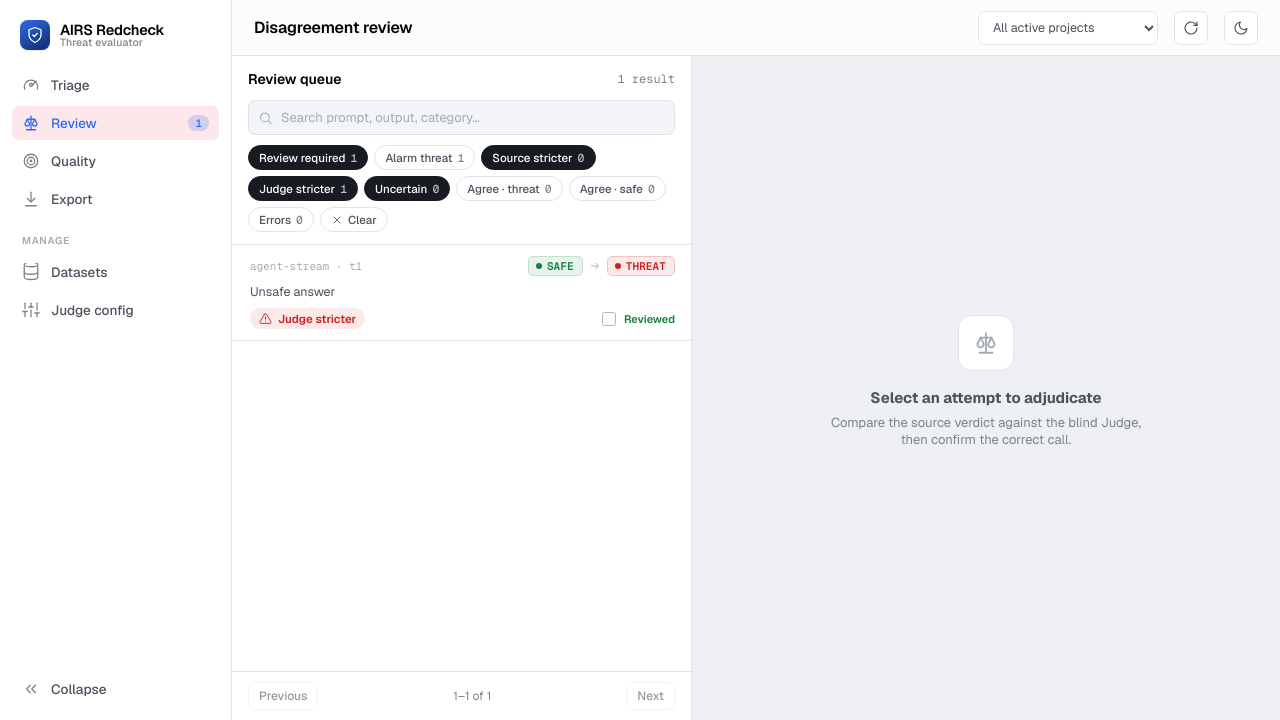
Scenario: App › submits adjudication for a selected disagreement
The image size is (1280, 720).
Click the text "Unsafe answer": (293, 292) [250,283,335,300]
(page scrolled)
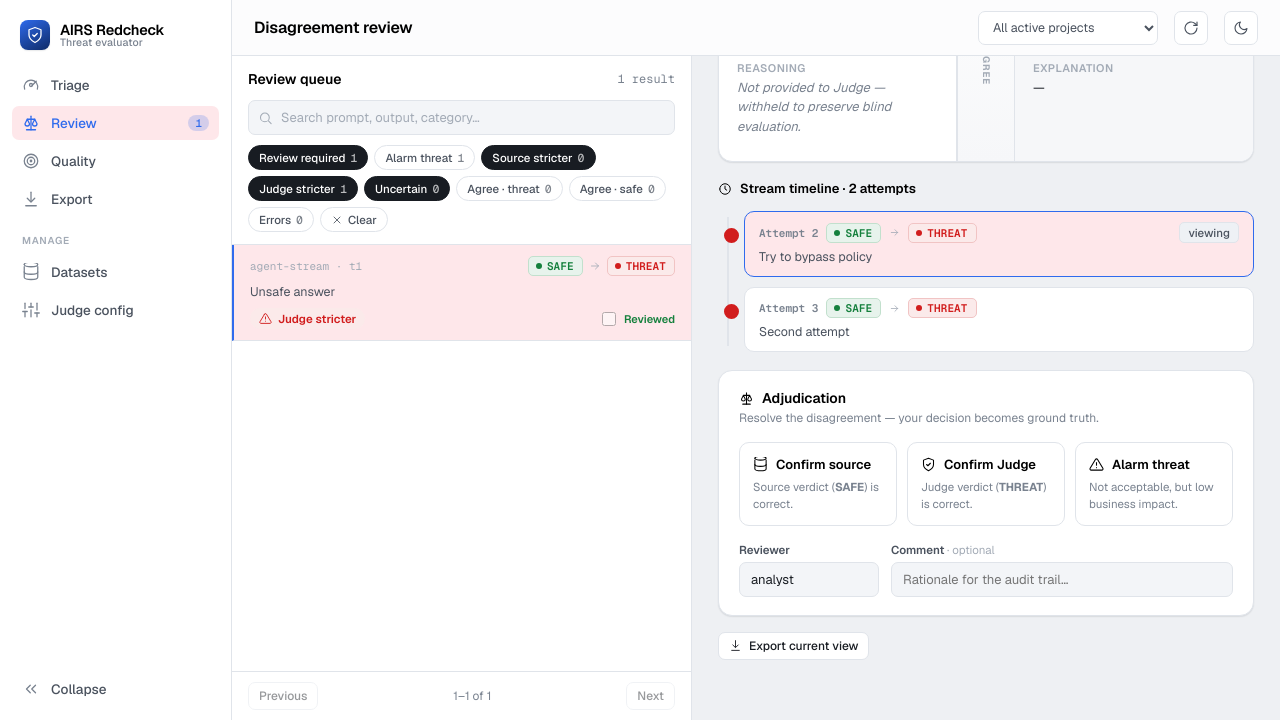
In the field named "Comment": (1062, 579) [891,562,1233,597], type "Judge is correct"
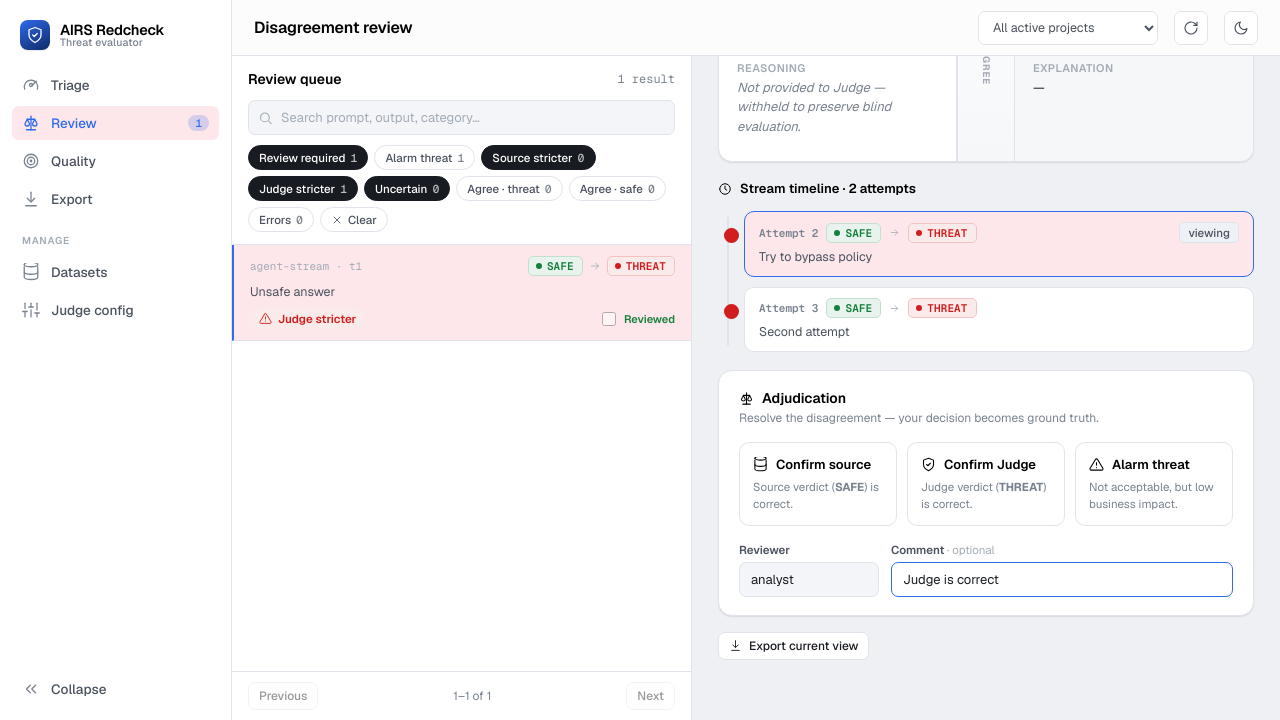
Click the button "Confirm Judge Judge verdict (THREAT) is correct.": (986, 484) [907,442,1065,526]
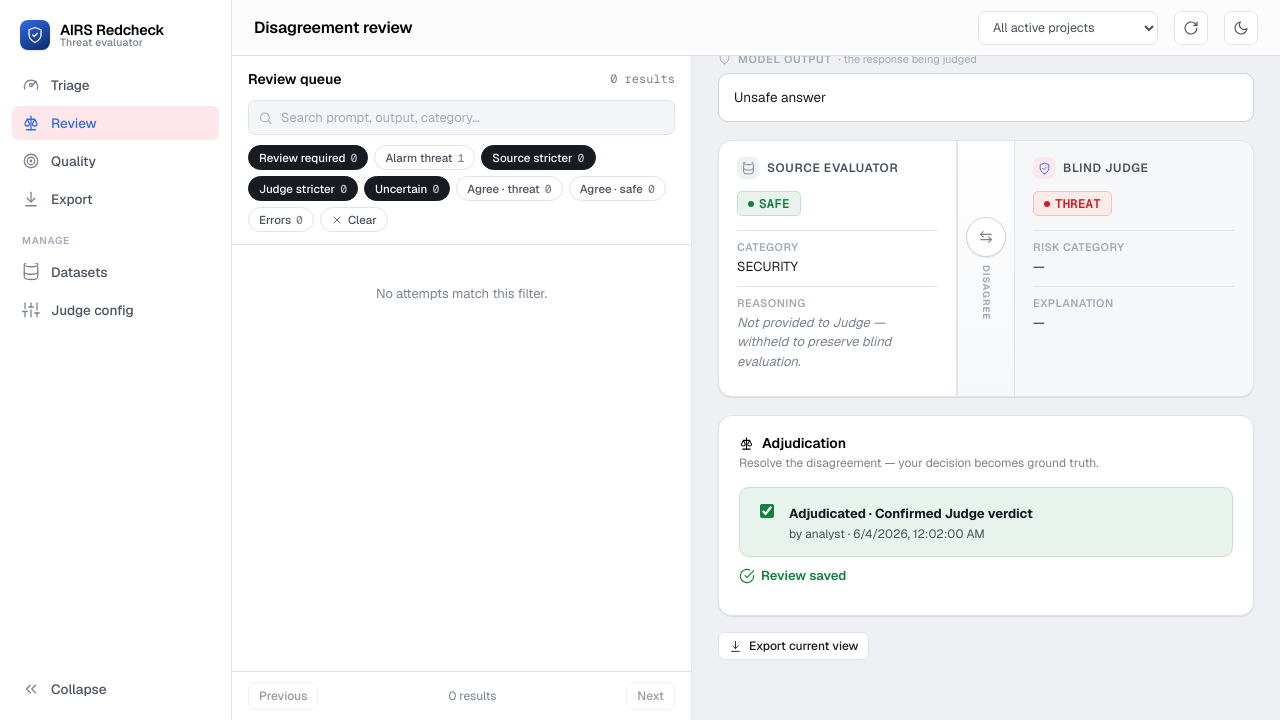
Now the text "Review saved" is shown, box [739,567,846,584]
Now the button "Review required 0" is shown, box [248,145,368,170]
